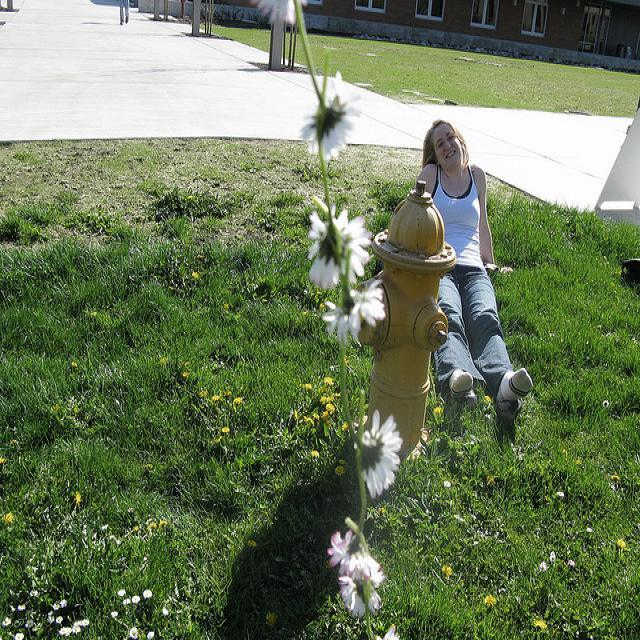fire_hydrant: (359, 177, 453, 455)
